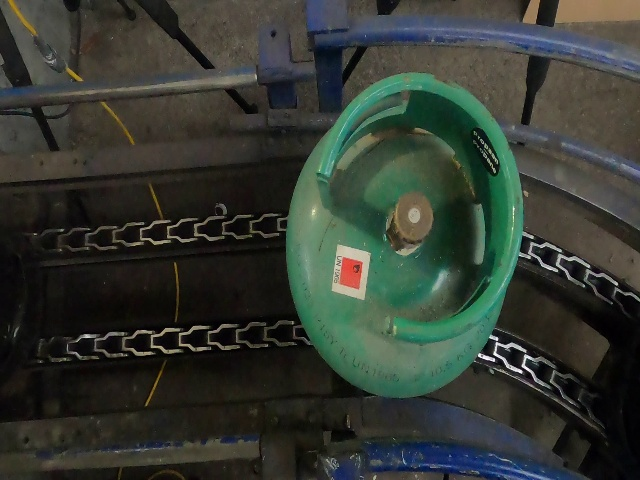gas_bottle: (8, 7, 640, 480)
